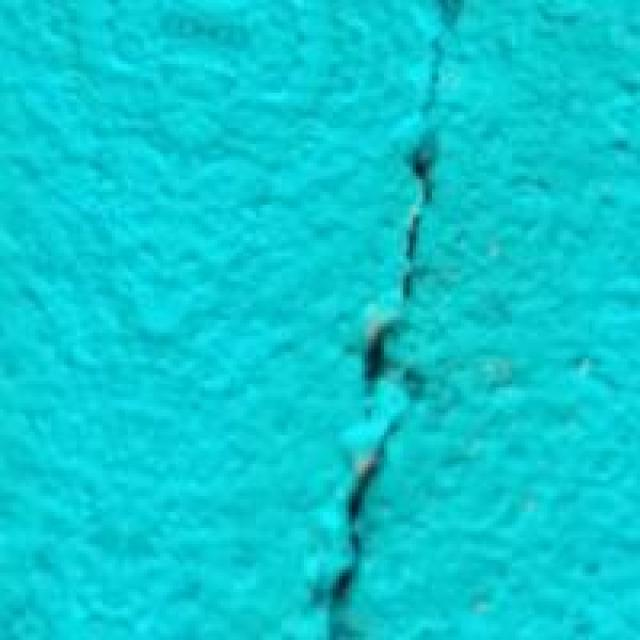crack: (262, 0, 461, 637)
